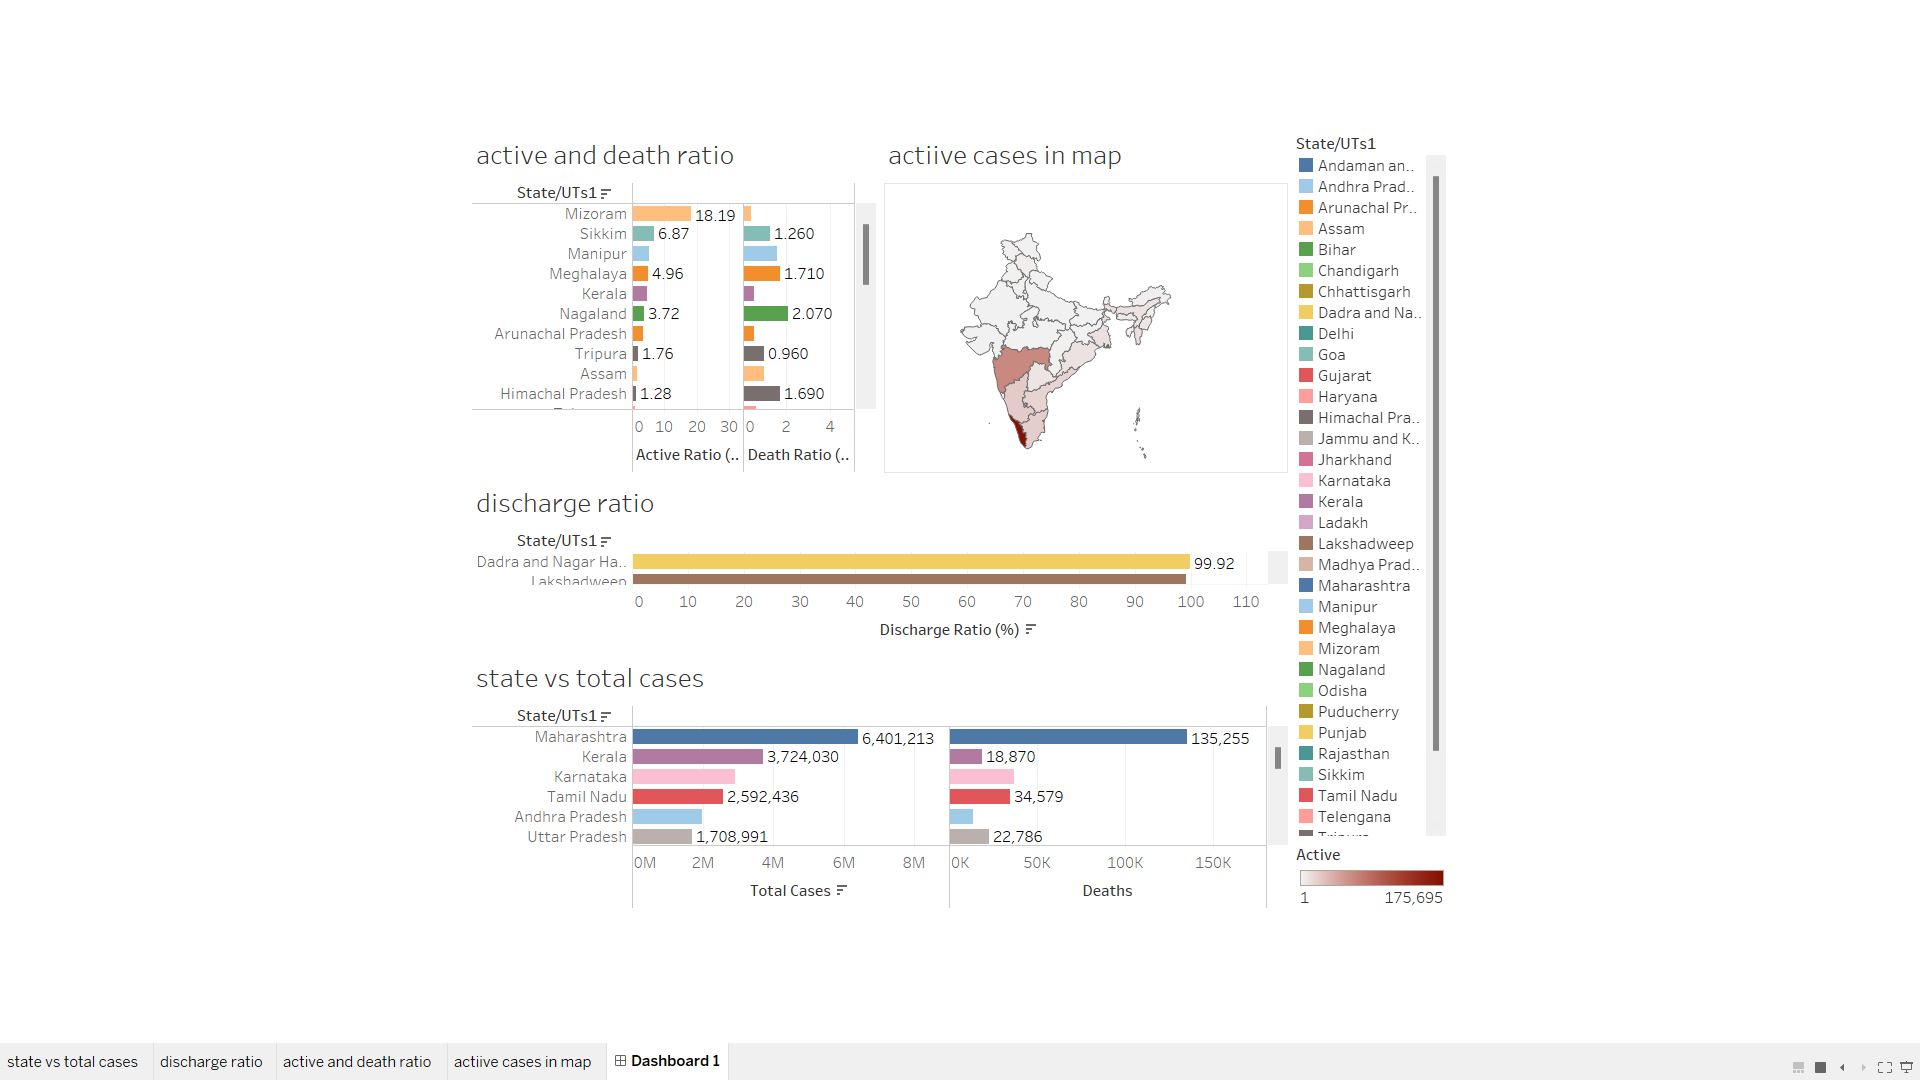

What the dashboard file says about the page in this screenshot:
{"tool":"tableau","page":{"name":"Dashboard 1","canvas":[1000,800],"ordinal":0},"visuals":[{"type":"worksheet","title":"active and death ratio","mark":"Automatic","rows":["State/UTs"],"cols":["Active Ratio (%)","Death Ratio (%)"],"box":[8,8,412,348.4]},{"type":"worksheet","title":"actiive cases in map","mark":"Multipolygon","box":[420,8,412,348.4]},{"type":"legend","title":"state vs total cases","param":"[federated.1ft5coy1jx4lwd12709sa0wztl1m].[none:State/UTs:nk]","box":[832,8,160,711]},{"type":"worksheet","title":"discharge ratio","mark":"Automatic","rows":["State/UTs"],"cols":["Discharge Ratio (%)"],"box":[8,356.4,824,174.2]},{"type":"worksheet","title":"state vs total cases","mark":"Automatic","rows":["State/UTs"],"cols":["Total Cases","Deaths"],"box":[8,530.7,824,261.3]},{"type":"legend","title":"actiive cases in map","param":"[federated.1ft5coy1jx4lwd12709sa0wztl1m].[sum:Active:qk]","box":[832,719,160,73]}]}

Visuals, with their boxes on the page's 1000x800 design canvas (x1, y1, x2, y2). These are canvas units, not pixel positions in the 1920x1080 screenshot, which may show the page scaled, cropped or inside an application window:
"active and death ratio" worksheet: l=8, t=8, r=420, b=356
"actiive cases in map" worksheet (Multipolygon marks): l=420, t=8, r=832, b=356
"state vs total cases" legend: l=832, t=8, r=992, b=719
"discharge ratio" worksheet: l=8, t=356, r=832, b=531
"state vs total cases" worksheet: l=8, t=531, r=832, b=792
"actiive cases in map" legend: l=832, t=719, r=992, b=792
